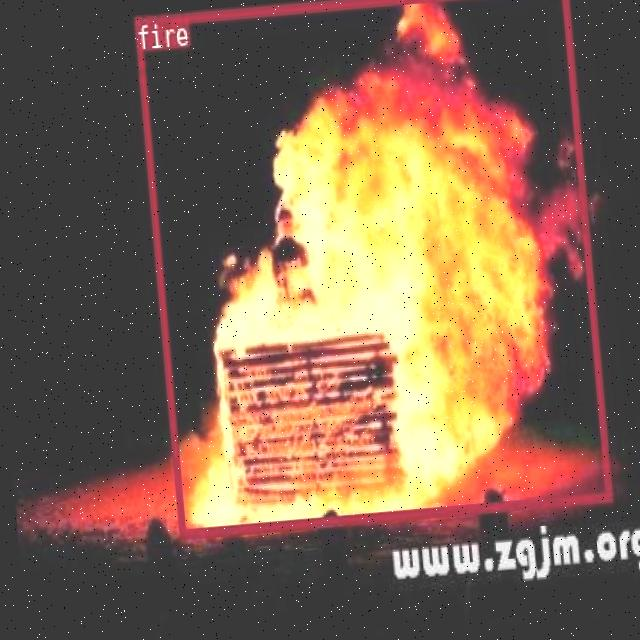fire: (132, 0, 611, 536)
